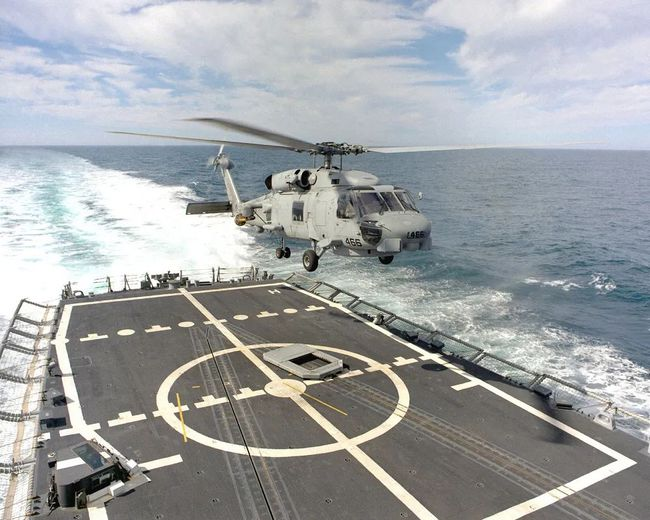Apron: (154, 340, 411, 459)
